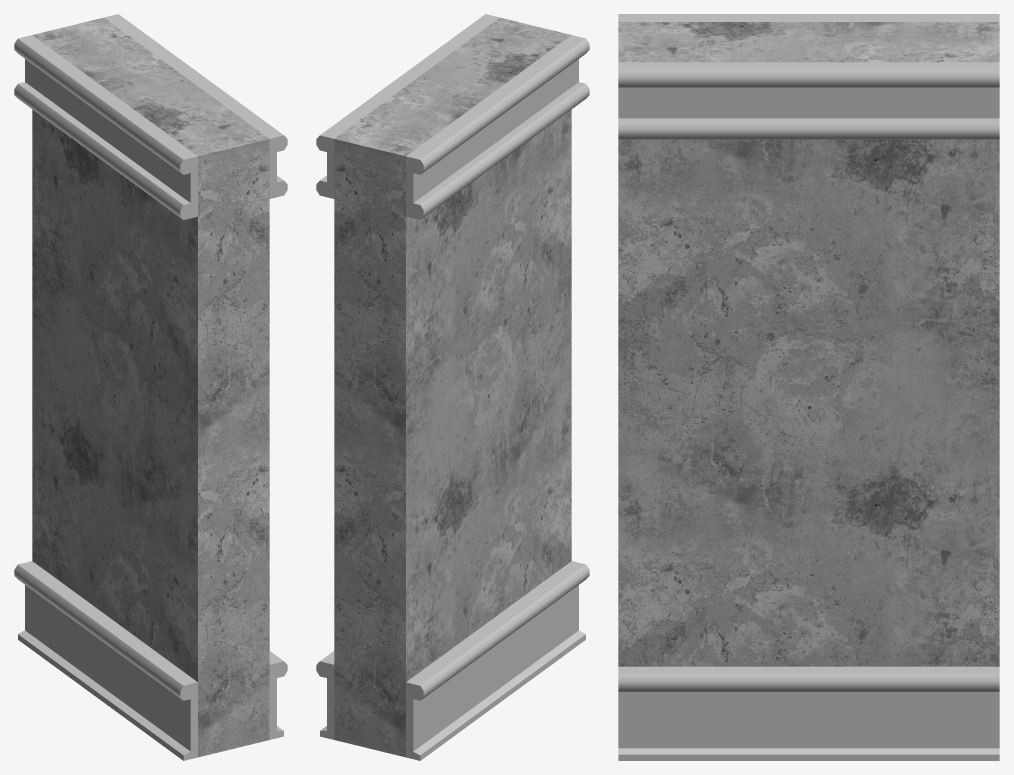
Rendered from SM_Wallkit_01a.fbx.
3 renders of one model, left to right at view 1: azimuth 30°, elevation 25°; view 2: azimuth 150°, elevation 25°; view 3: azimuth 270°, elevation 25°, orthographic. The views are drawn at different scales.
Visible parts, largest first — view 1: SM_Wallkit_01a_LOD0; view 2: SM_Wallkit_01a_LOD0; view 3: SM_Wallkit_01a_LOD0.
Part boxes in pixels (x1,y1,x2,y2): SM_Wallkit_01a_LOD0: (14,14,287,760); SM_Wallkit_01a_LOD0: (316,14,589,760); SM_Wallkit_01a_LOD0: (618,14,999,760).
Bounding box in the file's own units: 150 × 400 × 800.
